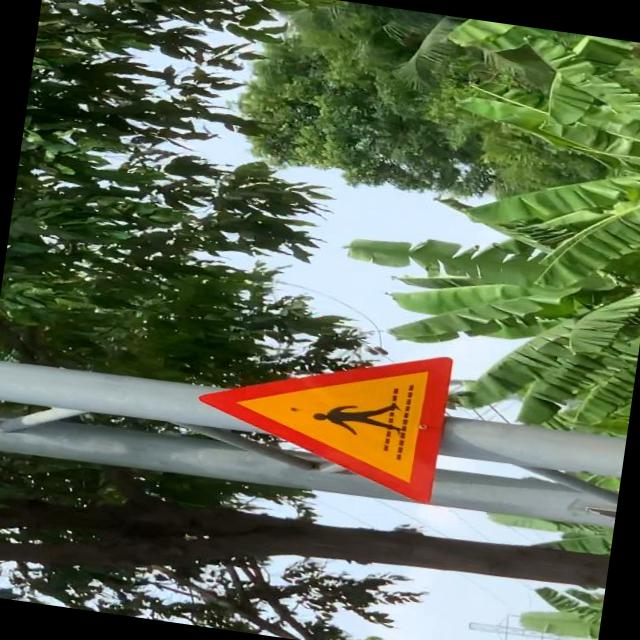W-224: (187, 322, 456, 506)
